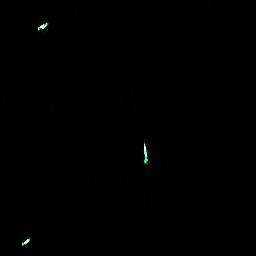ship: (35, 19, 49, 32), (19, 235, 32, 248), (142, 142, 149, 164)
